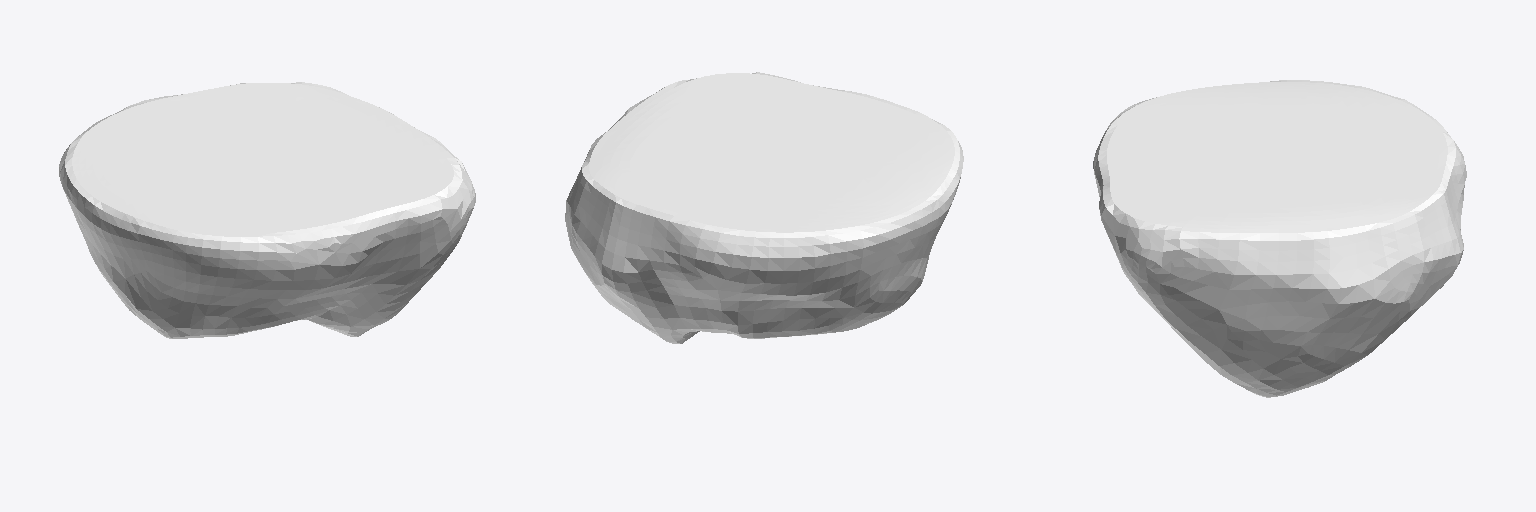
The model's file is land_A.obj.
3 renders of one model, left to right at view 1: azimuth 30°, elevation 25°; view 2: azimuth 150°, elevation 25°; view 3: azimuth 270°, elevation 25°, orthographic.
Parts seen in each view (by area): view 1: Volume65; view 2: Volume65; view 3: Volume65.
Boxes of the visible parts, box(x1,y1,x2,y2) form: Volume65: box(59, 82, 475, 338); Volume65: box(565, 72, 963, 343); Volume65: box(1093, 80, 1466, 397).
Bounding box in the file's own units: 212 × 119 × 205.